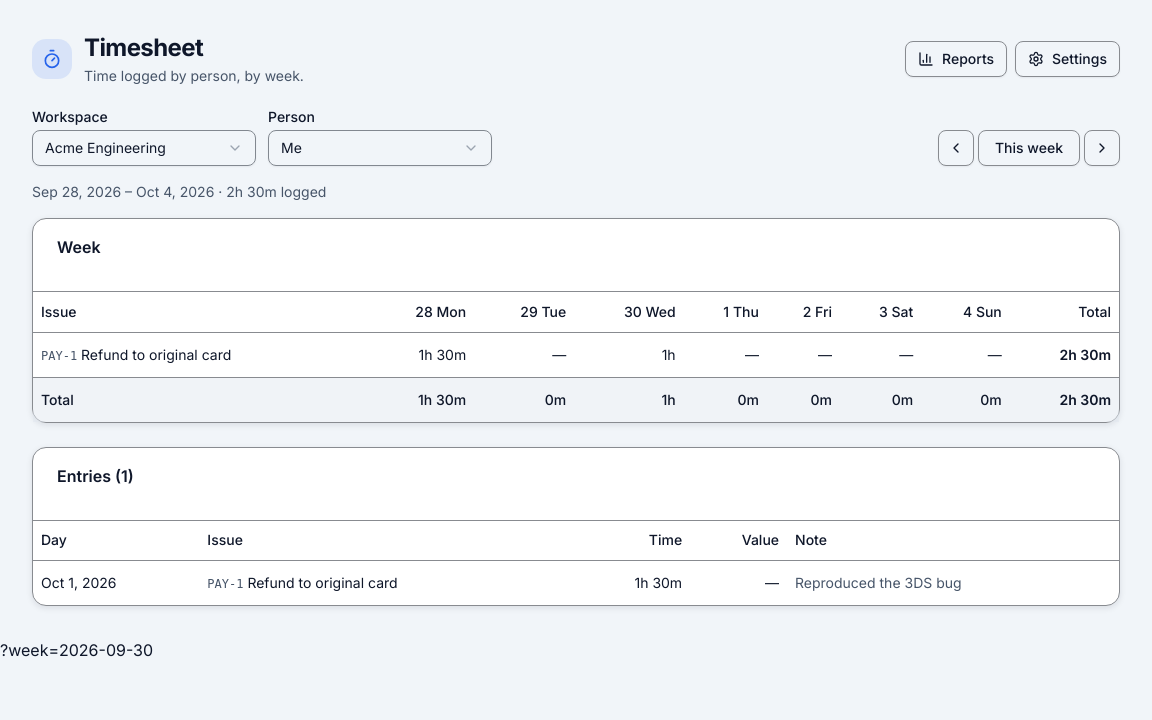
Scenario: <Timesheet> › lets an admin change the settings, sending what the form says
The width and height of the screenshot is (1152, 720).
Check: the table named "Timesheet" is shown, box left=33, top=292, right=1119, bottom=422
Click the button "Settings": (1068, 59) left=1015, top=41, right=1120, bottom=77
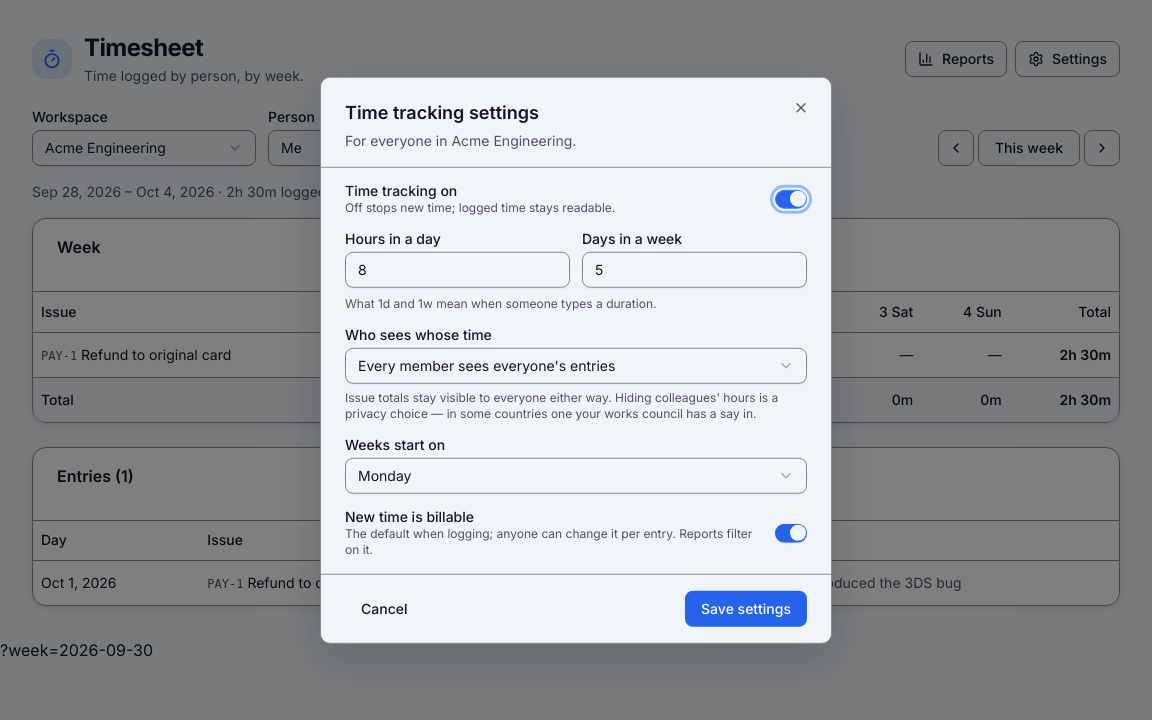
Replace the text in the number field labelled "Hours in a day" with "30": (458, 269) left=345, top=251, right=570, bottom=287
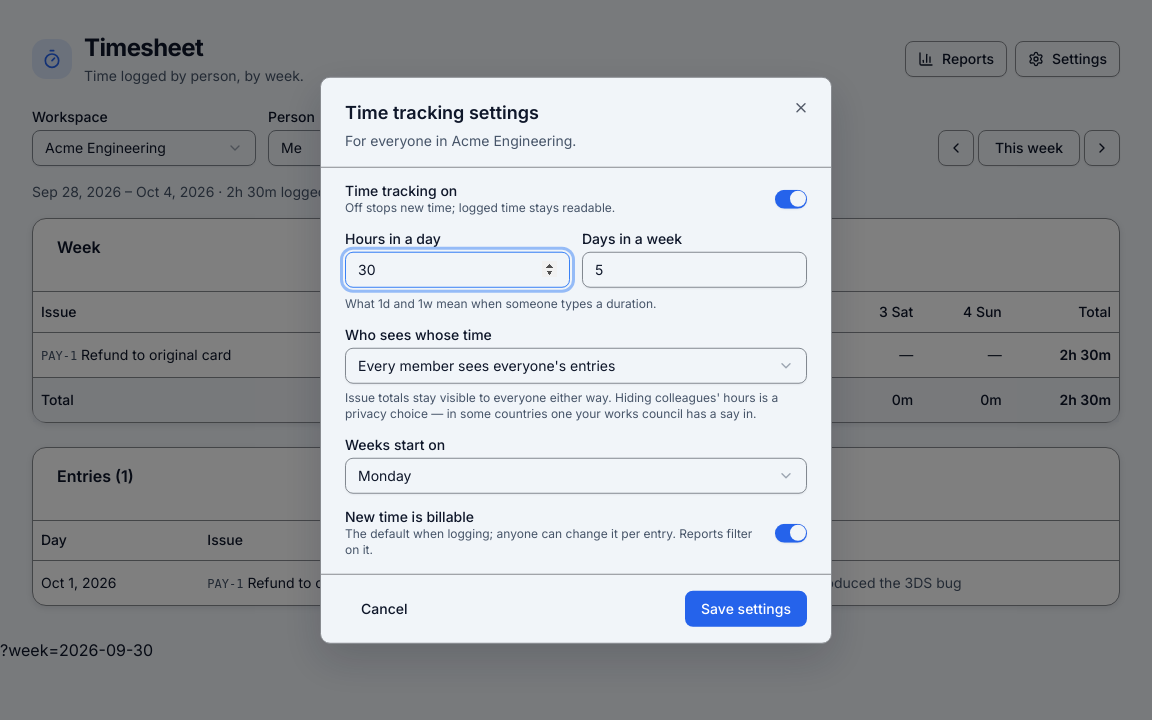
Click the button "Save settings": (746, 608) left=685, top=590, right=807, bottom=626
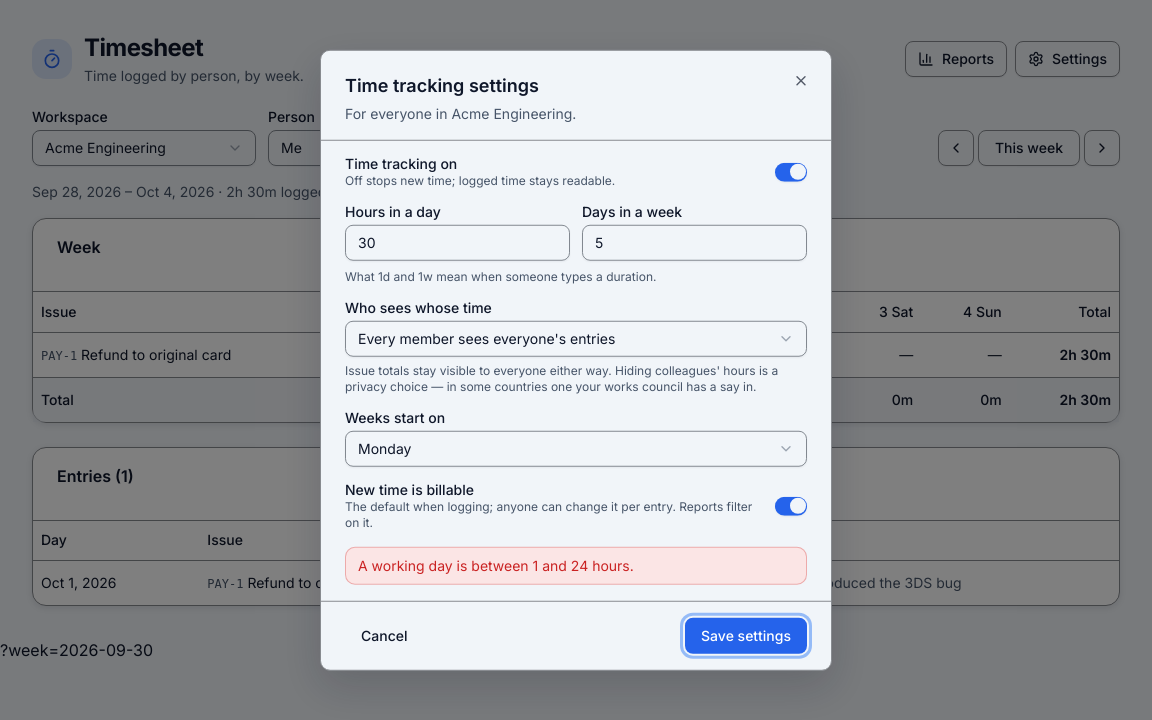
Check: the text "A working day is between 1 and 24 hours." is shown, box left=345, top=546, right=807, bottom=584
Replace the text in the number field labelled "Hours in a day" with "7.5": (458, 242) left=345, top=224, right=570, bottom=260
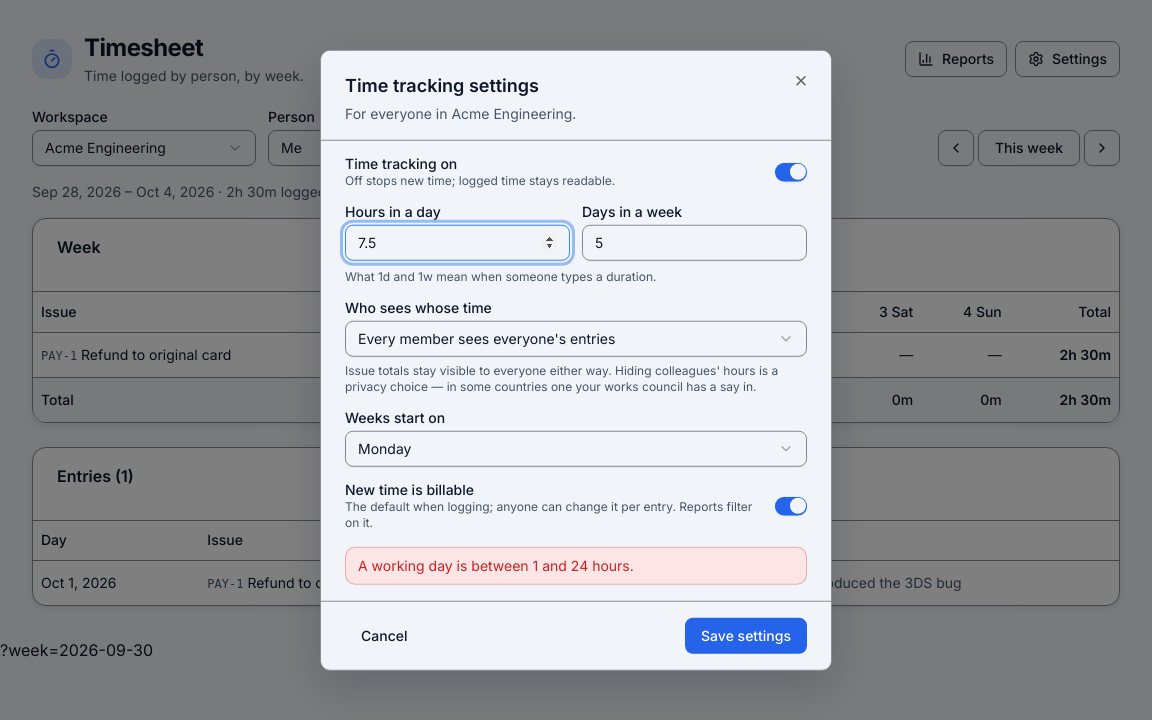
Click the button "Save settings": (746, 635) left=685, top=617, right=807, bottom=653
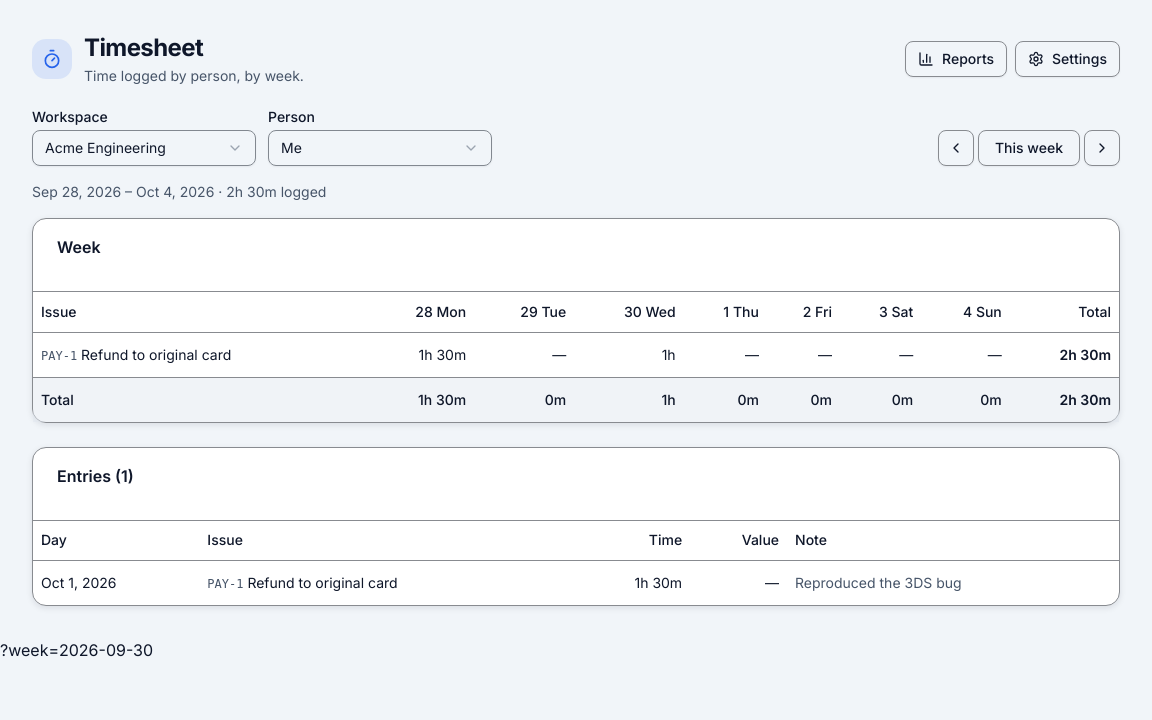
Check: the heading "Time tracking settings" is gone
